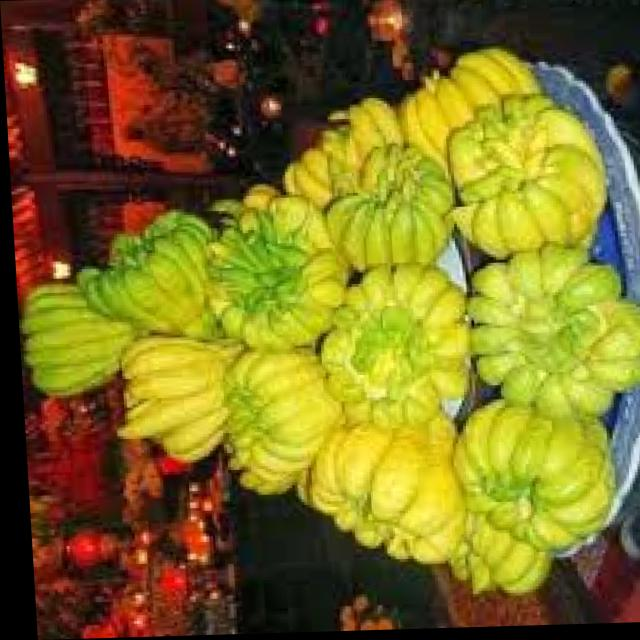PhatThu: (22, 29, 640, 611)
